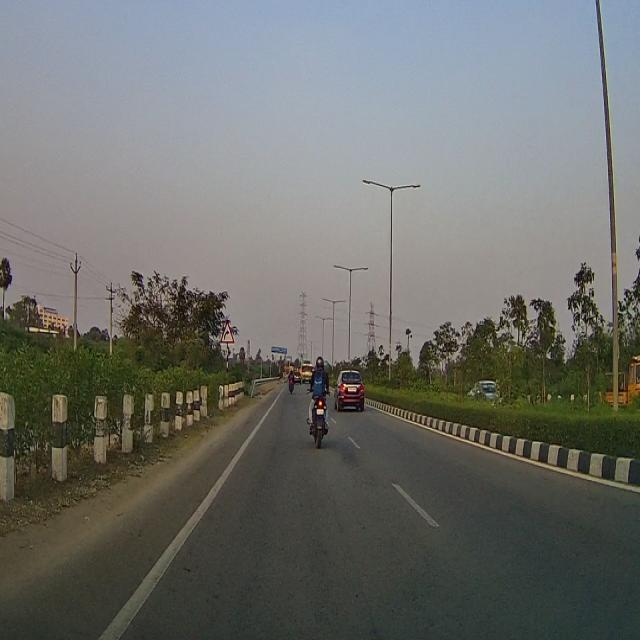right-hand-curve: (221, 320, 233, 347)
